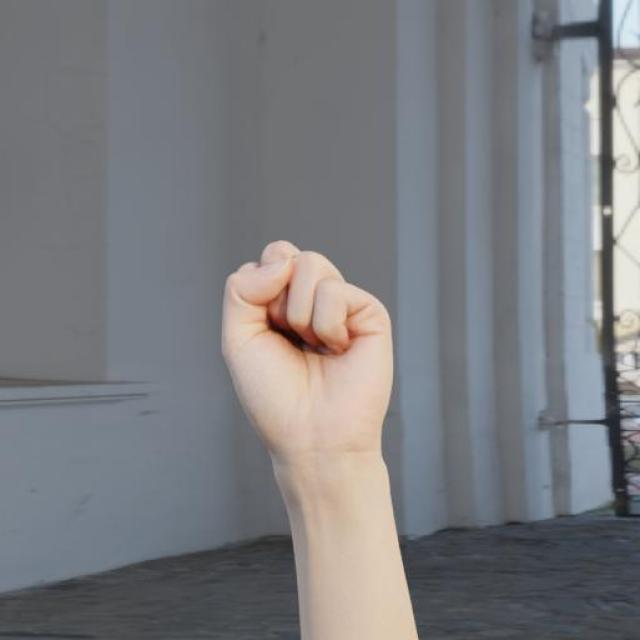S: (212, 232, 398, 462)
